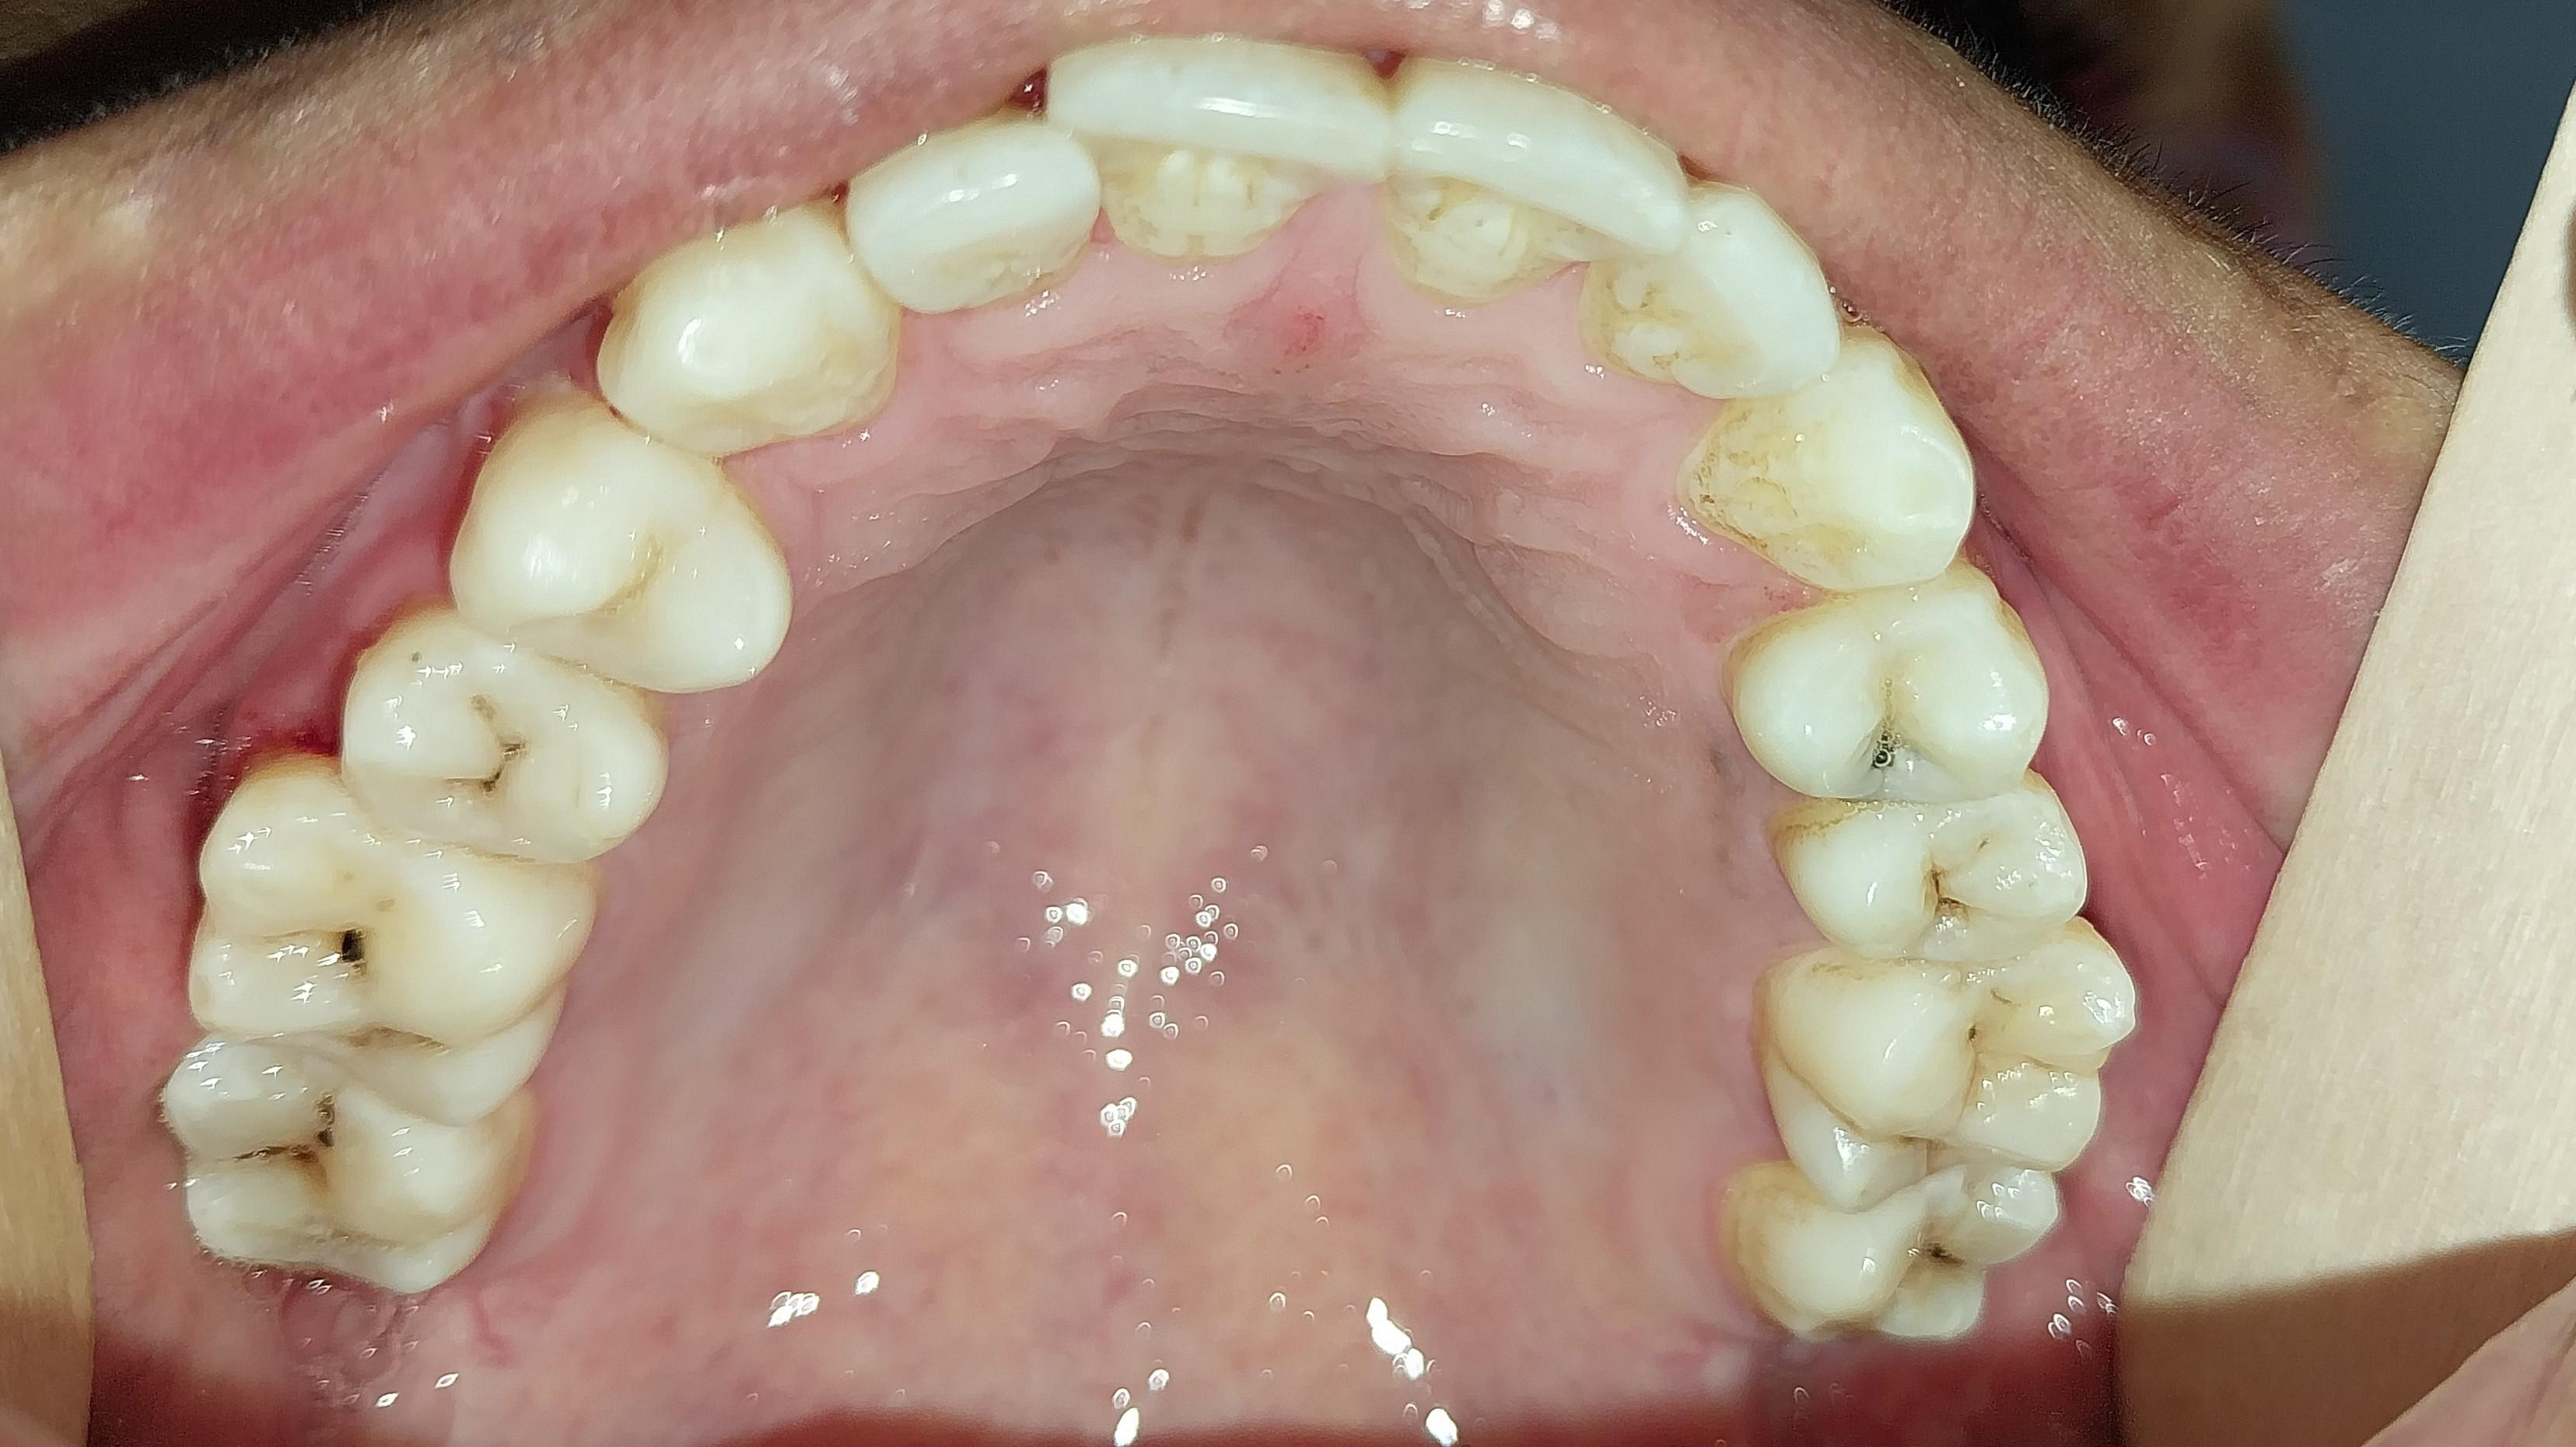D: (191, 766, 595, 1127), (159, 1029, 548, 1298), (1769, 924, 2118, 1197), (345, 618, 665, 871), (1717, 580, 2060, 811), (1739, 1135, 2058, 1351), (1767, 776, 2093, 969)
